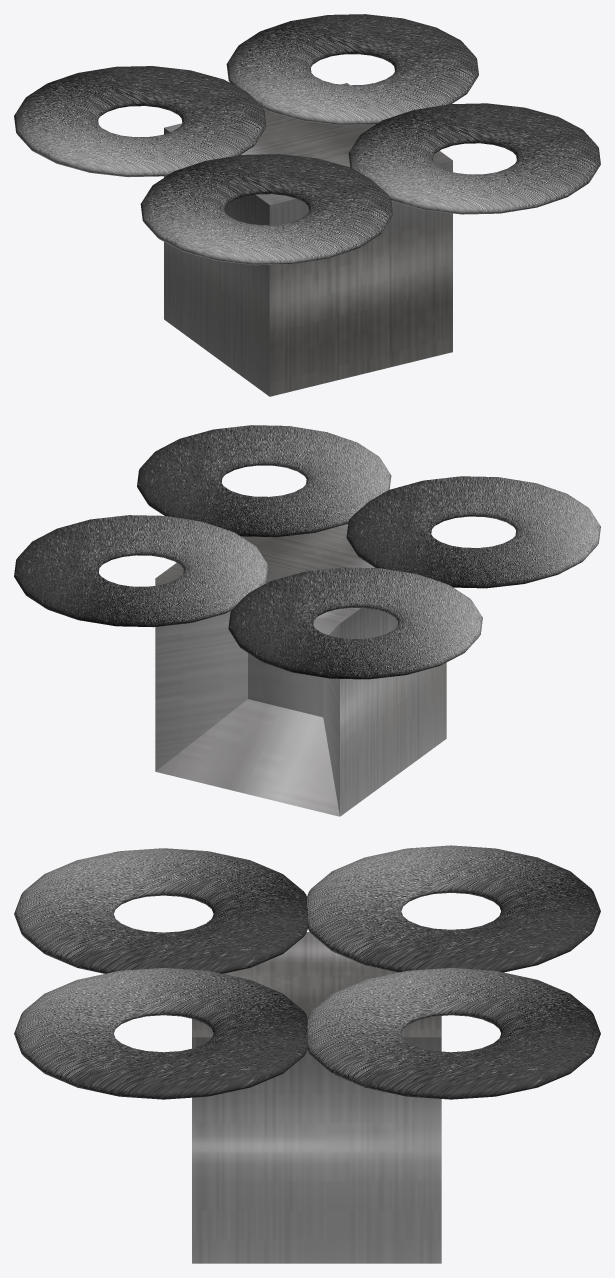
File: Drone.fbx
The picture shows the model from 3 angles, top to bottom: view 1: azimuth 30°, elevation 25°; view 2: azimuth 150°, elevation 25°; view 3: azimuth 270°, elevation 25°; orthographic projection. The views are drawn at different scales.
Parts seen in each view (by area): view 1: pCube1, pTorus2, pTorus3, pTorus5, pTorus4; view 2: pCube1, pTorus5, pTorus4, pTorus2, pTorus3; view 3: pCube1, pTorus3, pTorus4, pTorus5, pTorus2.
Boxes of the visible parts, x1,y1,x2,y2 form: pCube1: (164, 83, 452, 396); pTorus2: (140, 154, 392, 265); pTorus3: (348, 103, 600, 214); pTorus5: (14, 66, 266, 177); pTorus4: (226, 14, 478, 125); pCube1: (155, 524, 446, 816); pTorus5: (228, 567, 482, 679); pTorus4: (14, 515, 268, 627); pTorus2: (346, 476, 600, 588); pTorus3: (137, 425, 391, 537); pCube1: (192, 932, 441, 1263); pTorus3: (14, 968, 307, 1099); pTorus4: (307, 968, 600, 1099); pTorus5: (307, 845, 600, 972); pTorus2: (14, 848, 307, 973).
Size of the model in its own units: 23.61 by 10.91 by 23.52.
2 materials, 2 textured.
